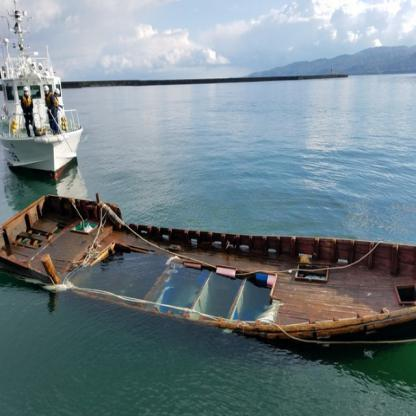Ship: (1, 187, 416, 357)
